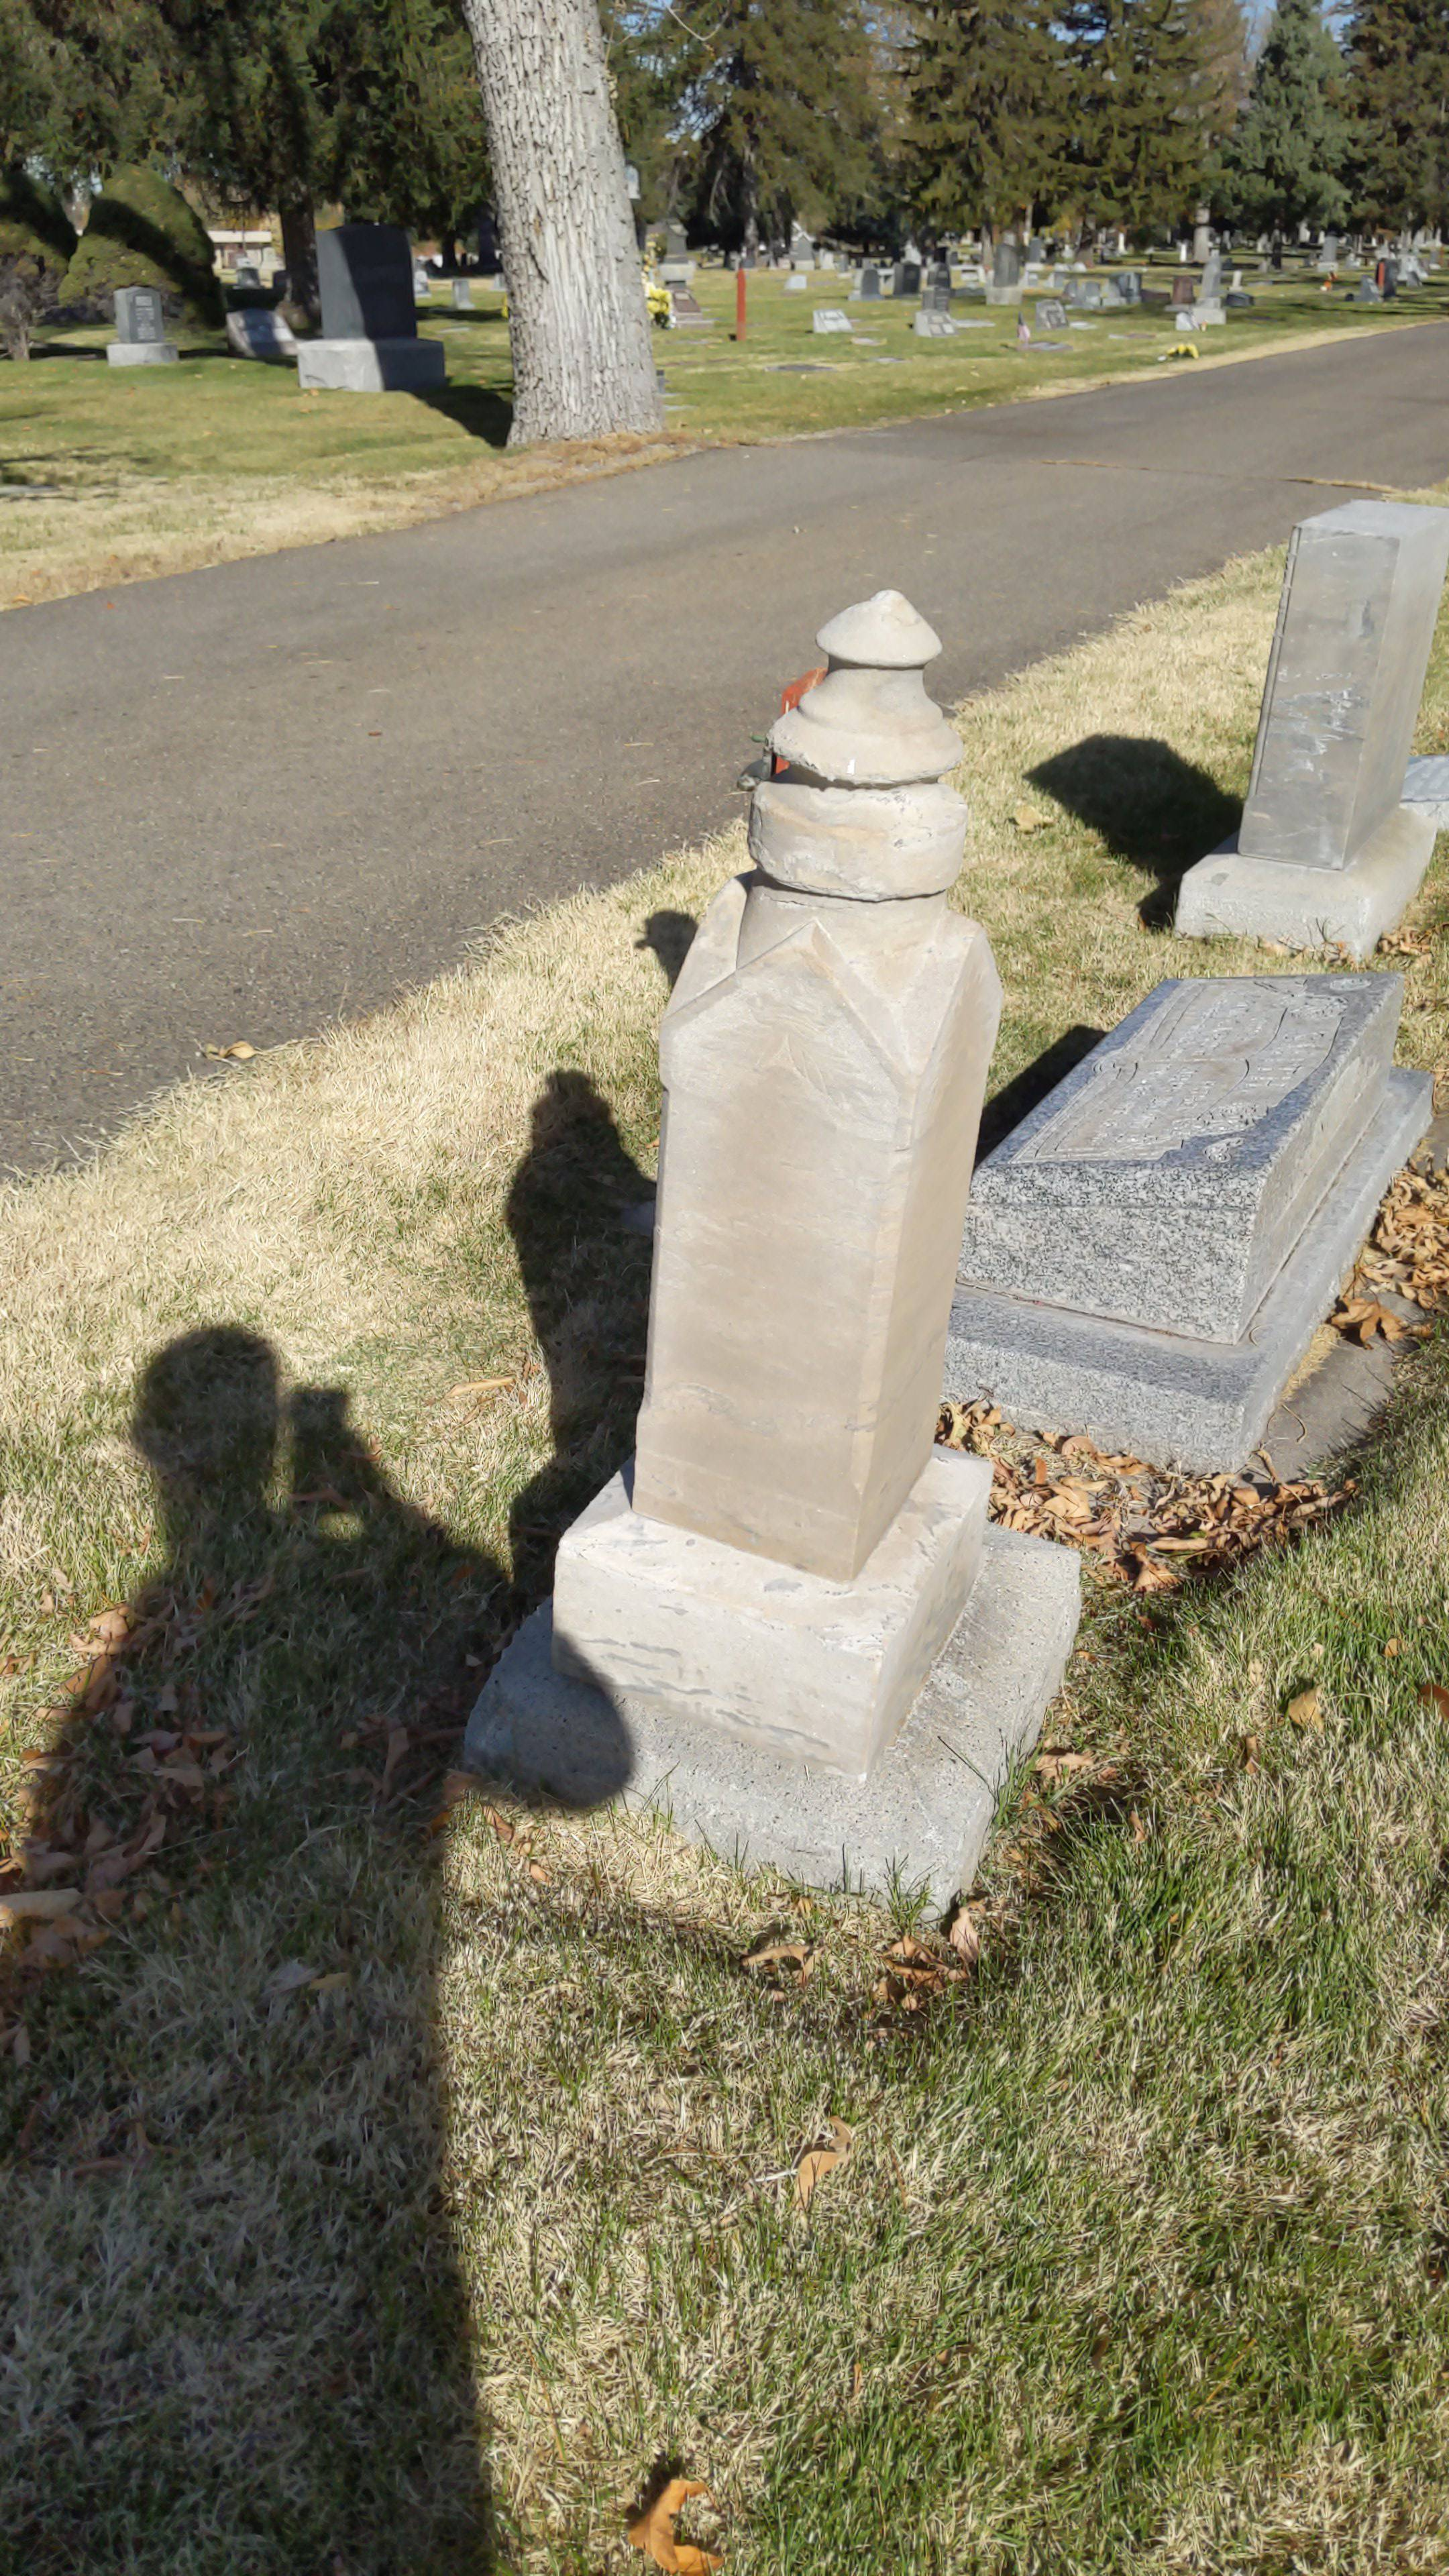obelisk: (621, 589, 998, 1587)
